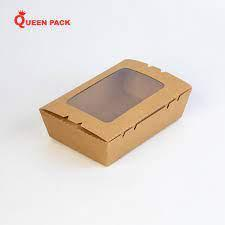box: (38, 58, 193, 167)
